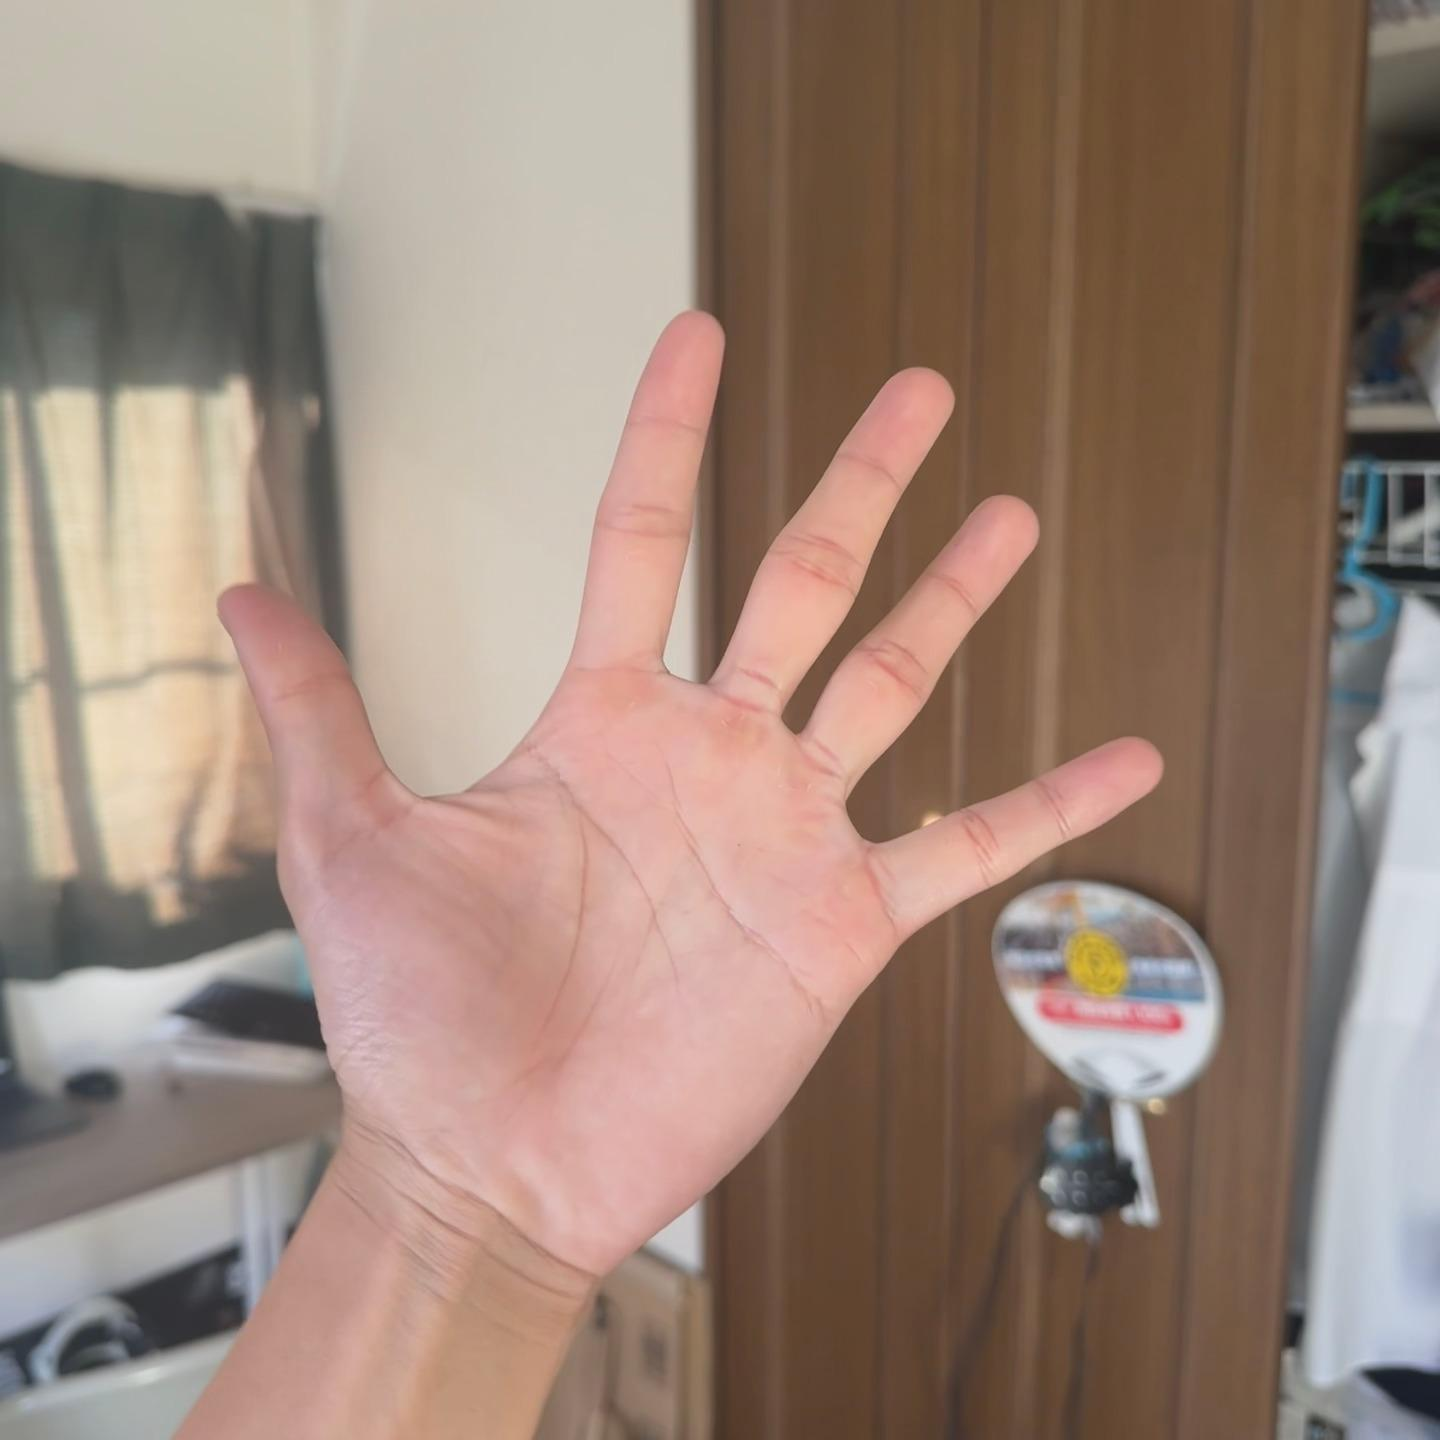without_gloves: (187, 167, 1302, 1259)
